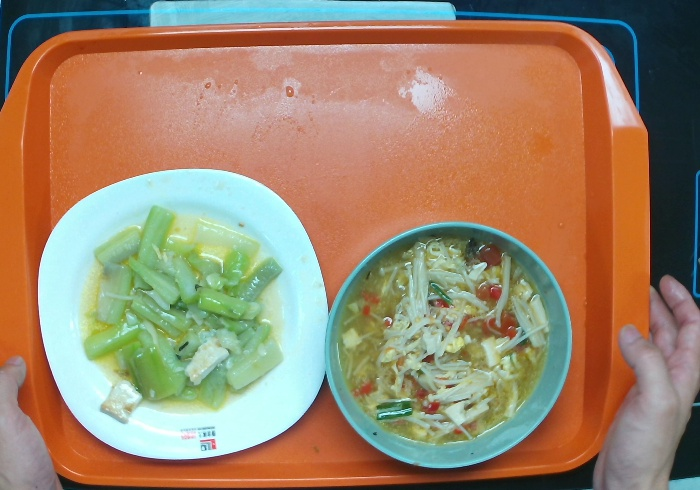ZNLD-Qing_Hua_Yuan_Wan: (325, 221, 577, 473)
ZNLD-Yuan_Jiao_Pan: (32, 168, 330, 465)
